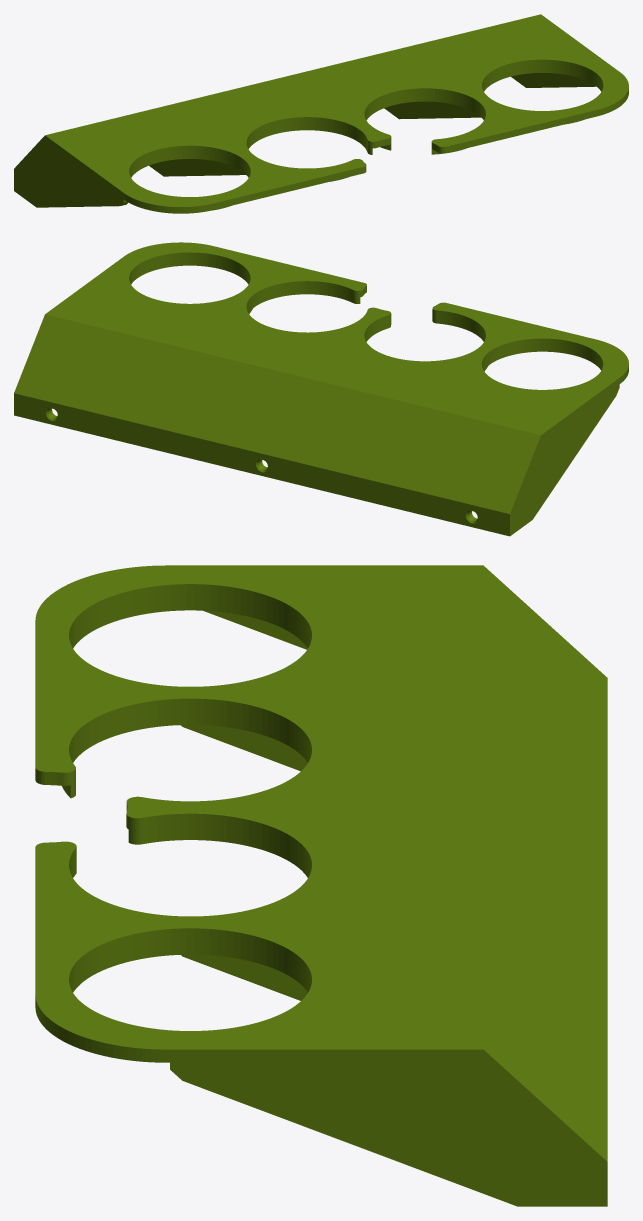
File: tube-support__v0.glb
3 renders of one model, top to bottom at view 1: azimuth 30°, elevation 25°; view 2: azimuth 150°, elevation 25°; view 3: azimuth 270°, elevation 25°, orthographic. The views are drawn at different scales.
Parts seen in each view (by area): view 1: tube-support; view 2: tube-support; view 3: tube-support.
Boxes of the visible parts, box(x1,y1,x2,y2) form: tube-support: box(14, 14, 628, 213); tube-support: box(14, 242, 628, 536); tube-support: box(35, 565, 607, 1206).
Bounding box in the file's own units: 0.2365 × 0.0358 × 0.1181.
